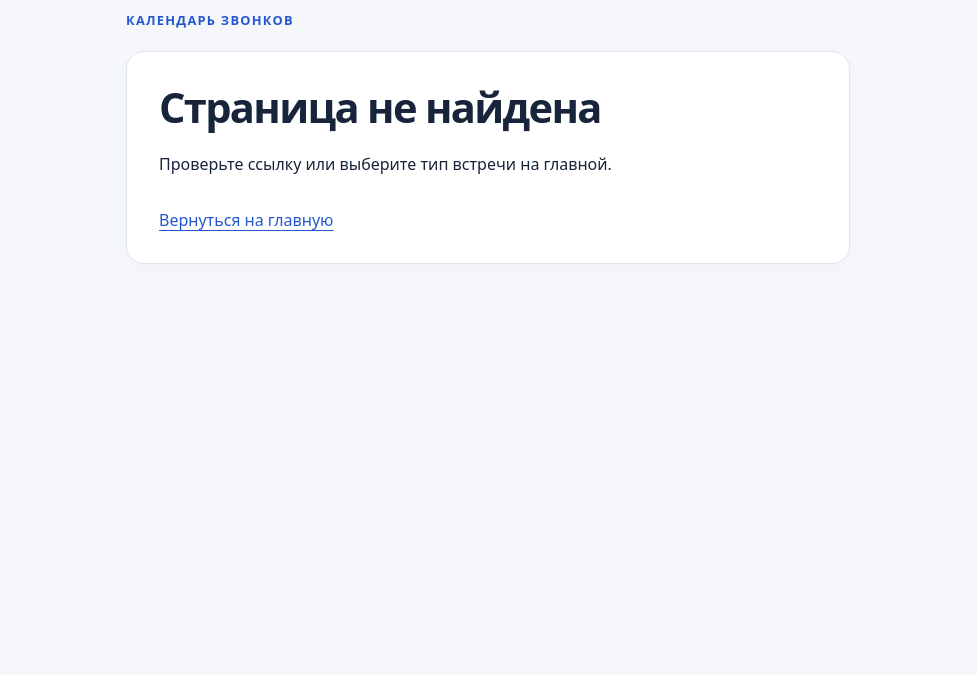
Test case: Путь гостя › позволяет вернуться с неизвестной ссылки
Expected: the heading "Страница не найдена" is shown, [159,79,601,135]
Click the link "Вернуться на главную".
click(246, 220)  # box [159,209,334,231]
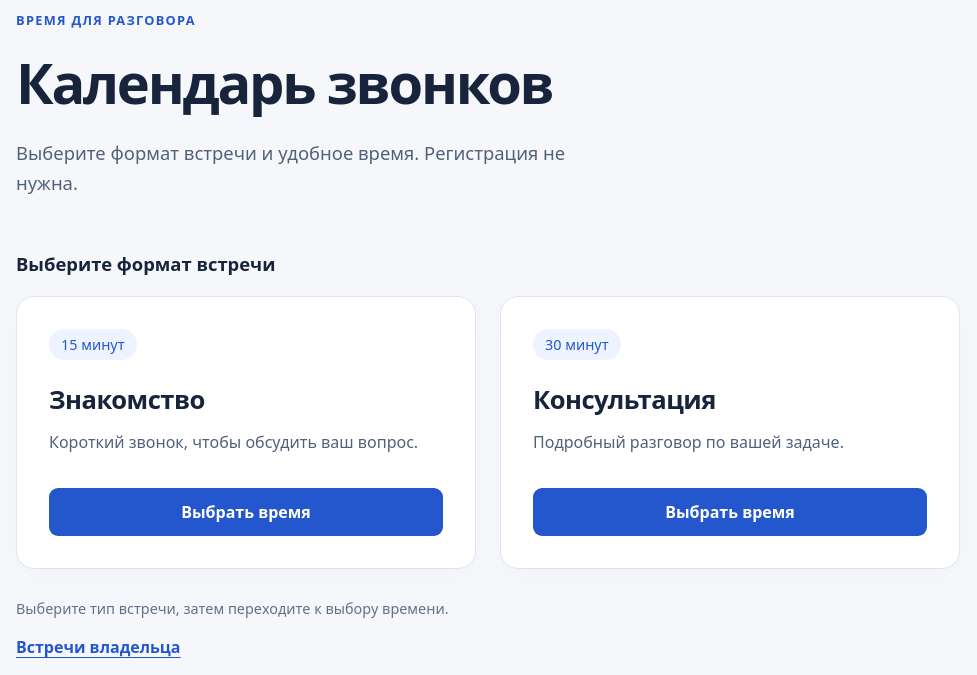
Expected: the heading "Календарь звонков" is shown, [16,44,552,120]
